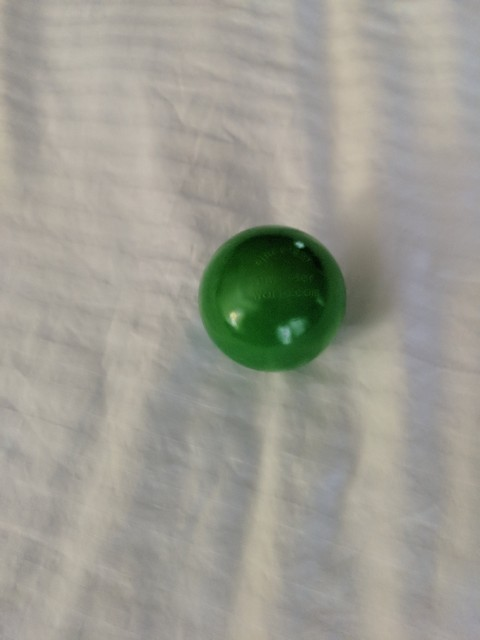ball: (195, 223, 350, 378)
